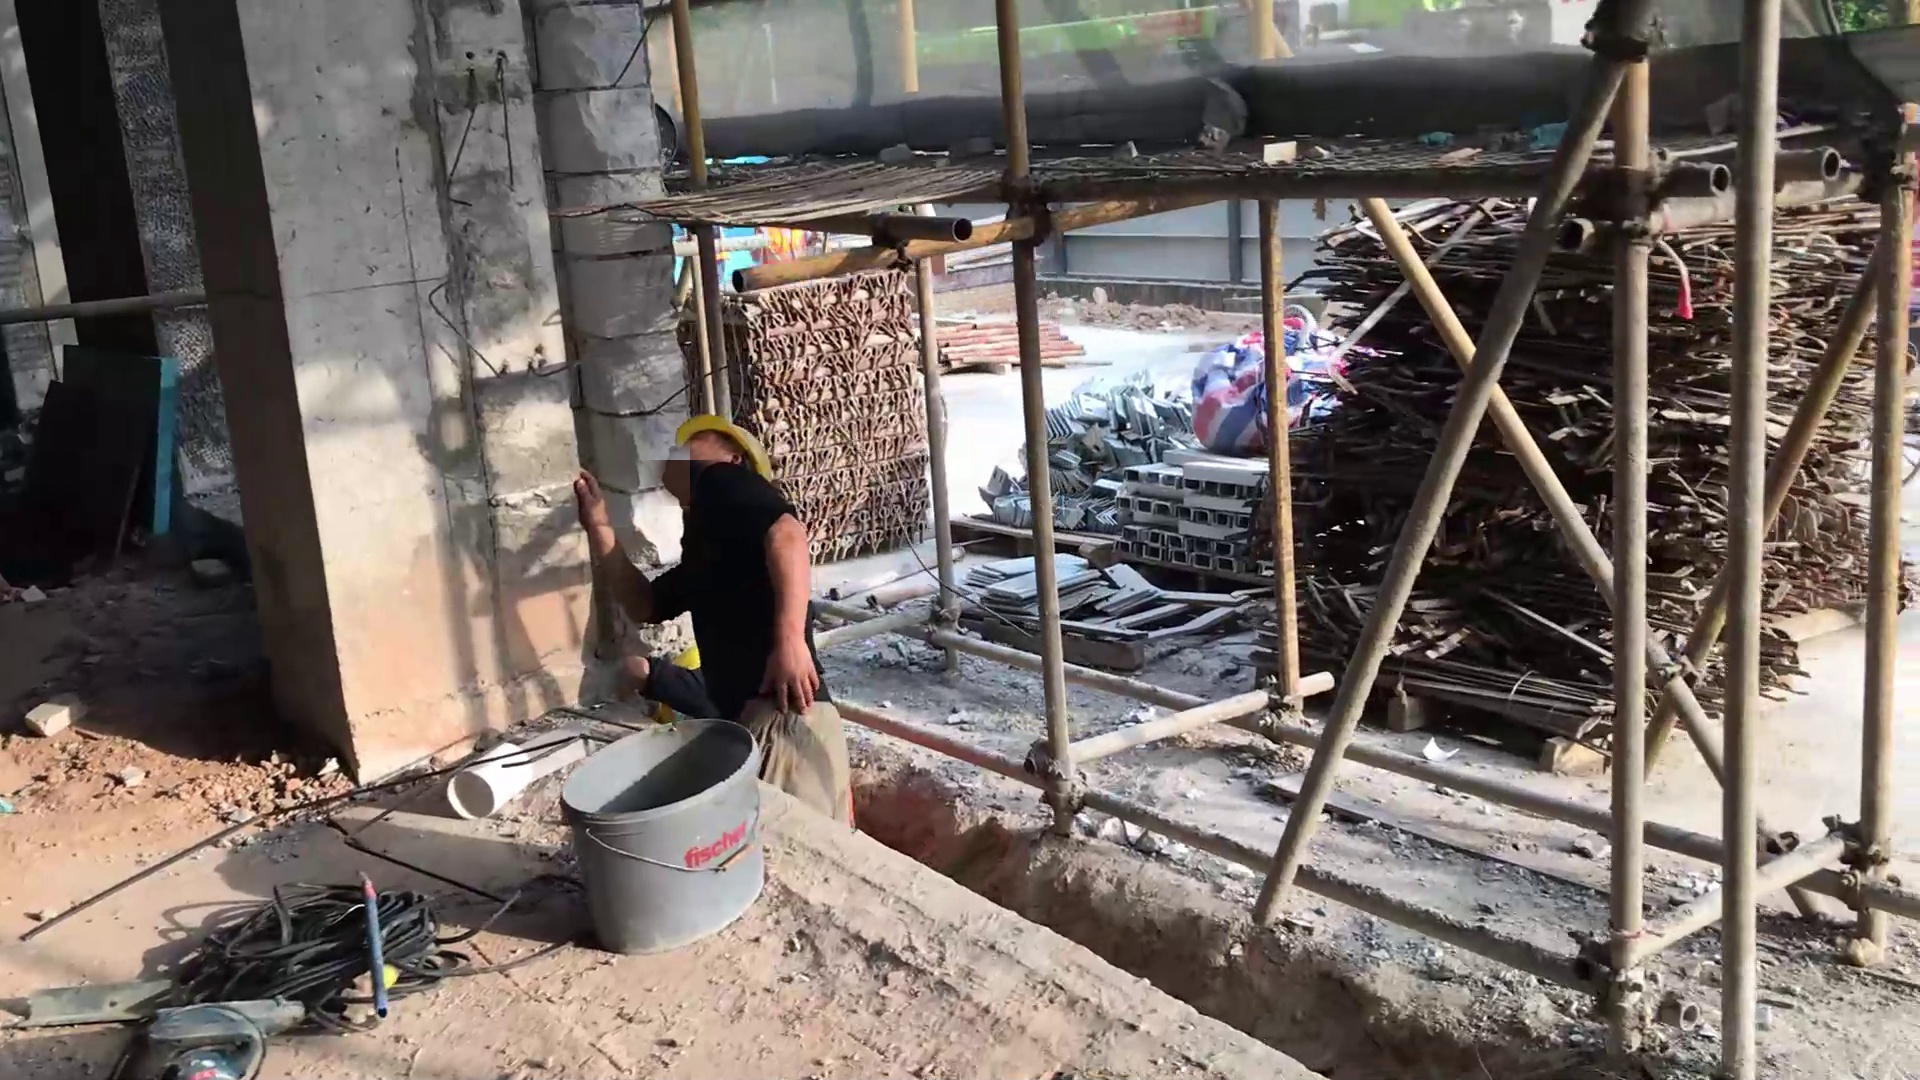helmet: (670, 409, 776, 478)
person: (575, 412, 858, 837)
scaffold: (720, 263, 927, 557)
vest: (756, 224, 811, 267)
